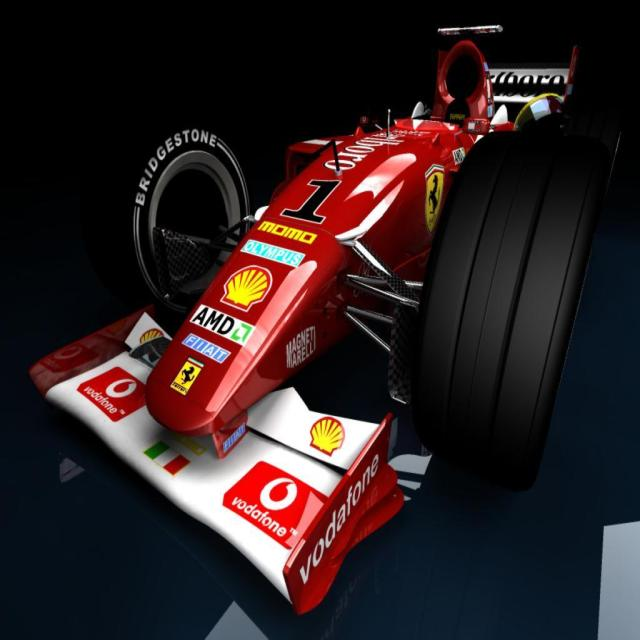car: (26, 28, 620, 619)
